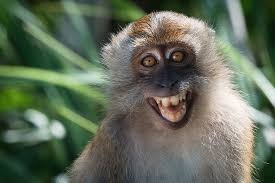monkey: (61, 8, 262, 183)
